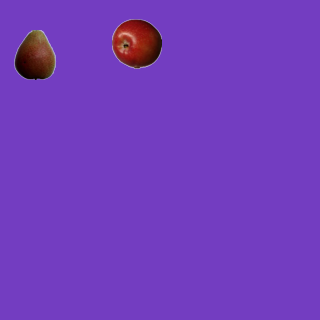Apple Braeburn: (111, 18, 161, 68)
Pear Forelle: (9, 29, 59, 79)
